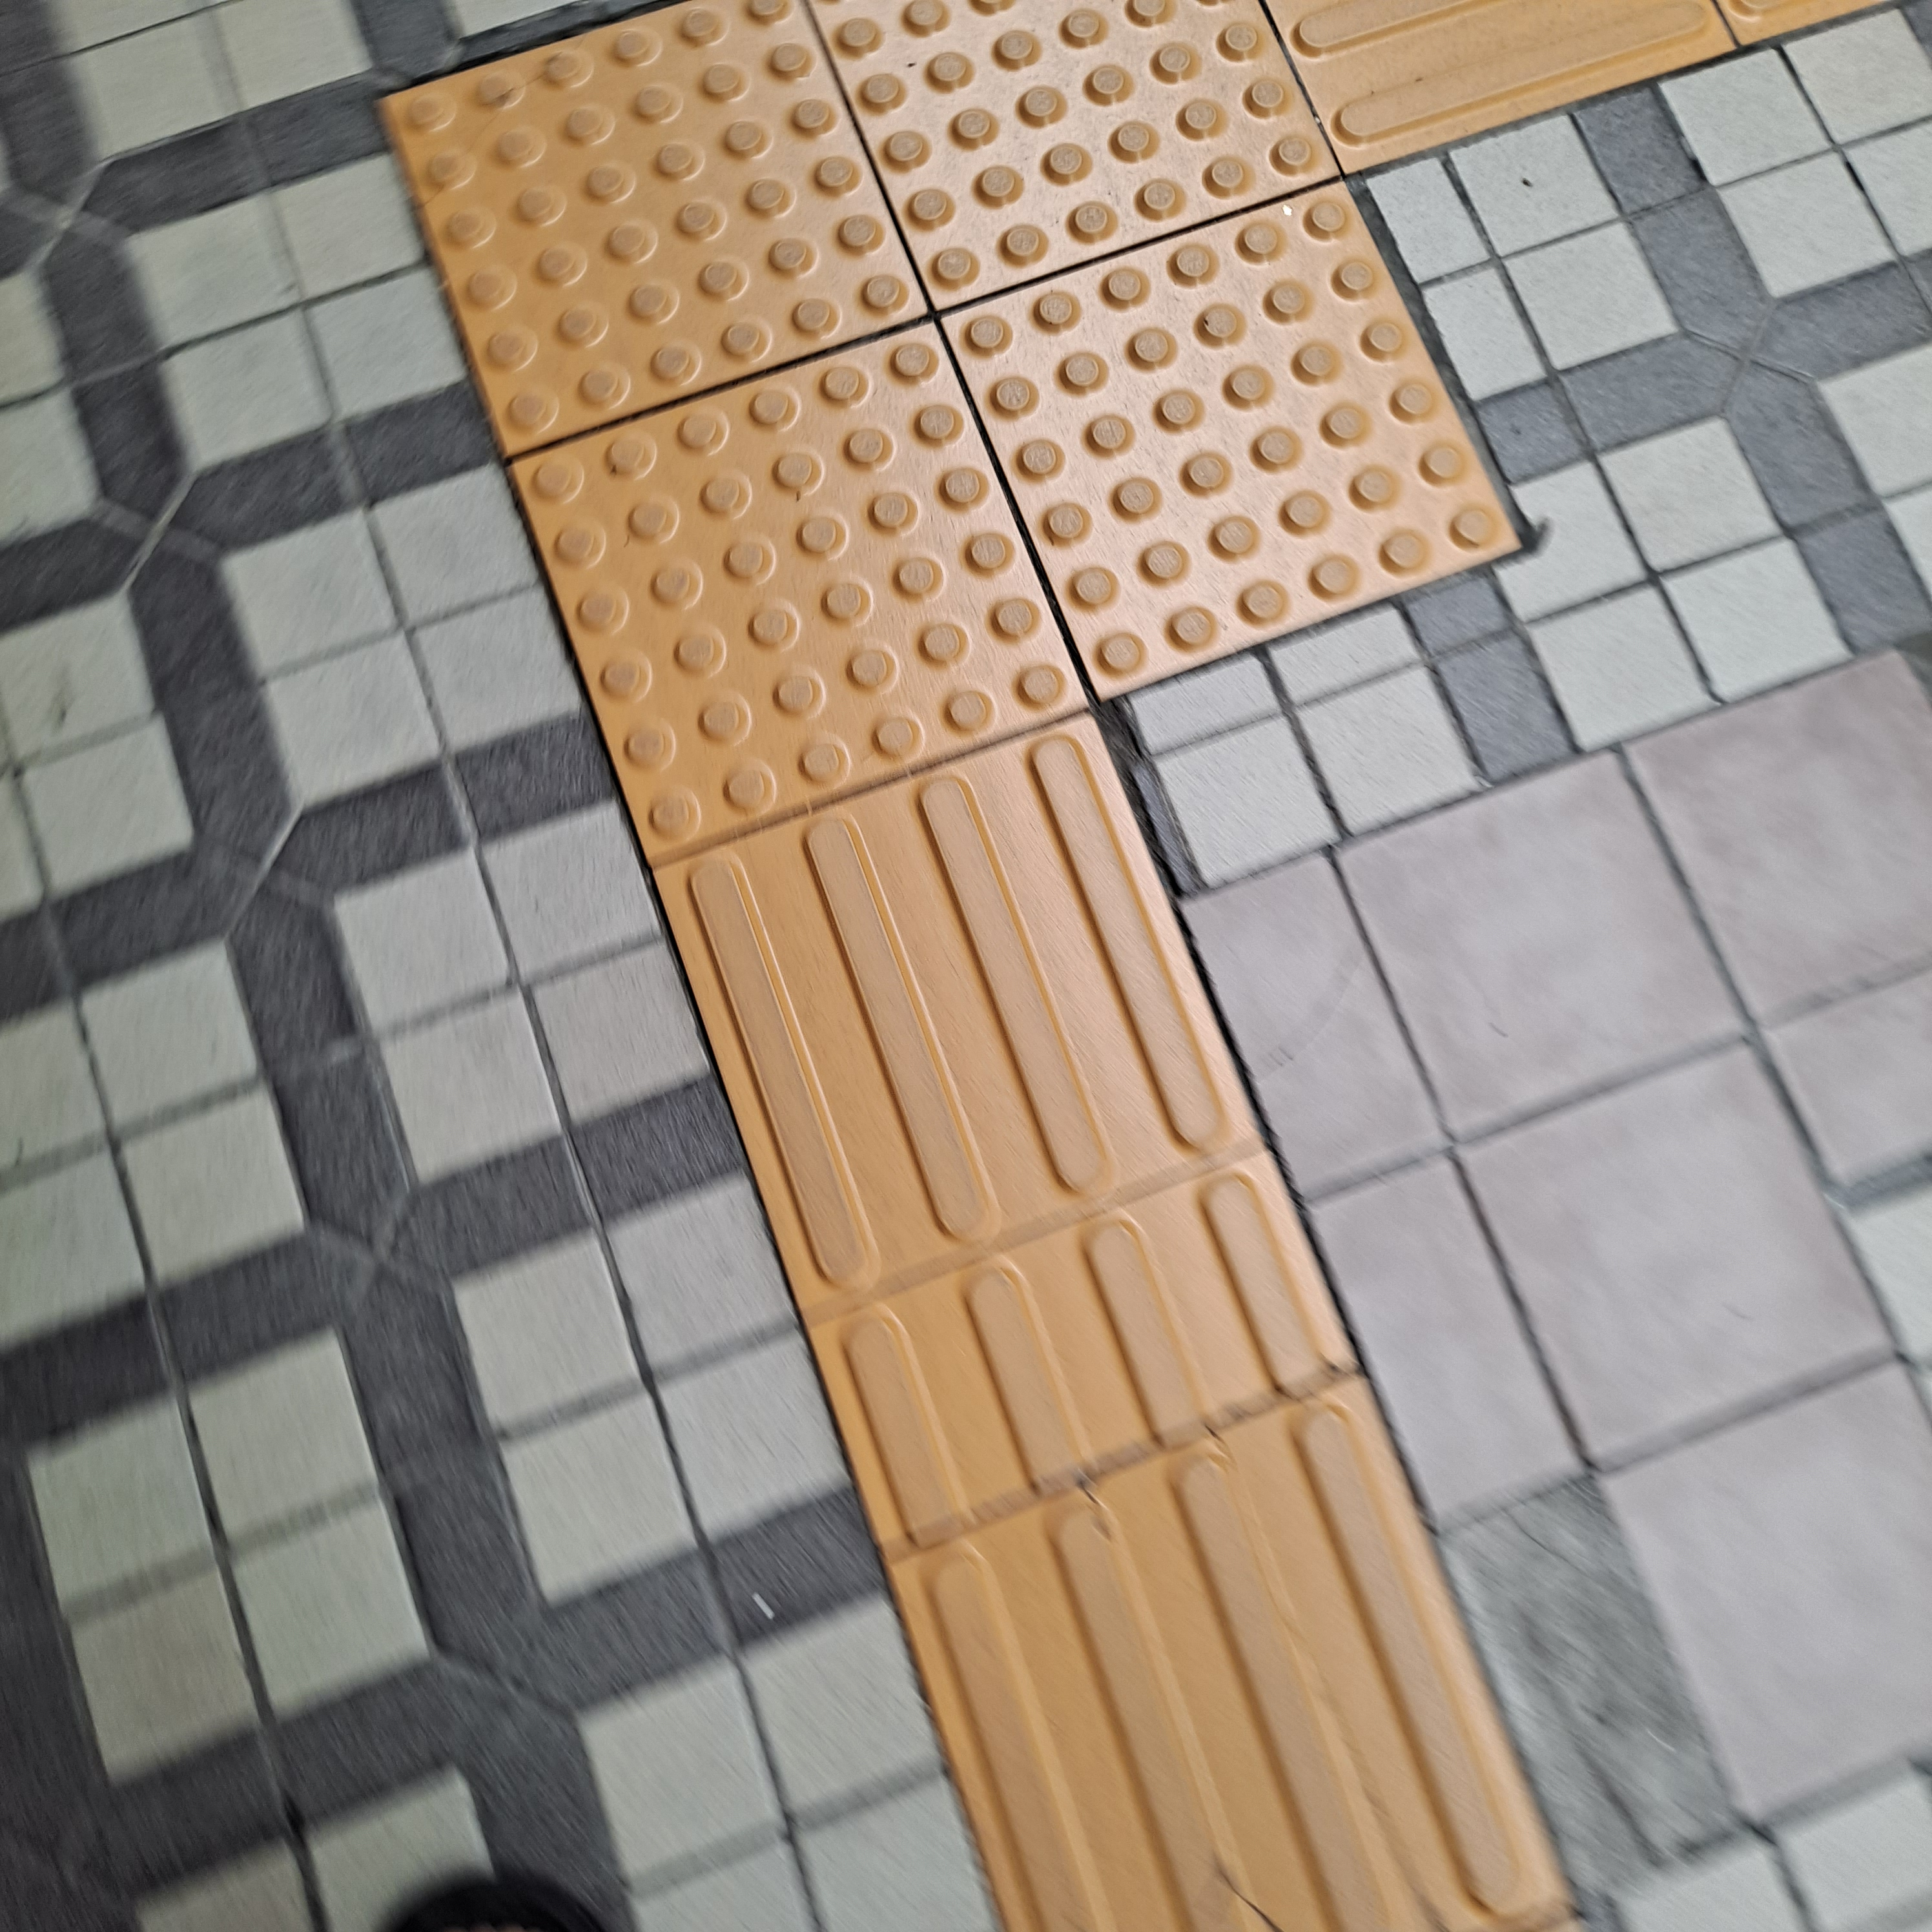guideBlock: (901, 1419, 1491, 1932), (690, 828, 1185, 1240), (828, 1215, 1322, 1465)
warningBlock: (975, 203, 1488, 612), (566, 347, 1039, 743), (416, 25, 902, 363)
